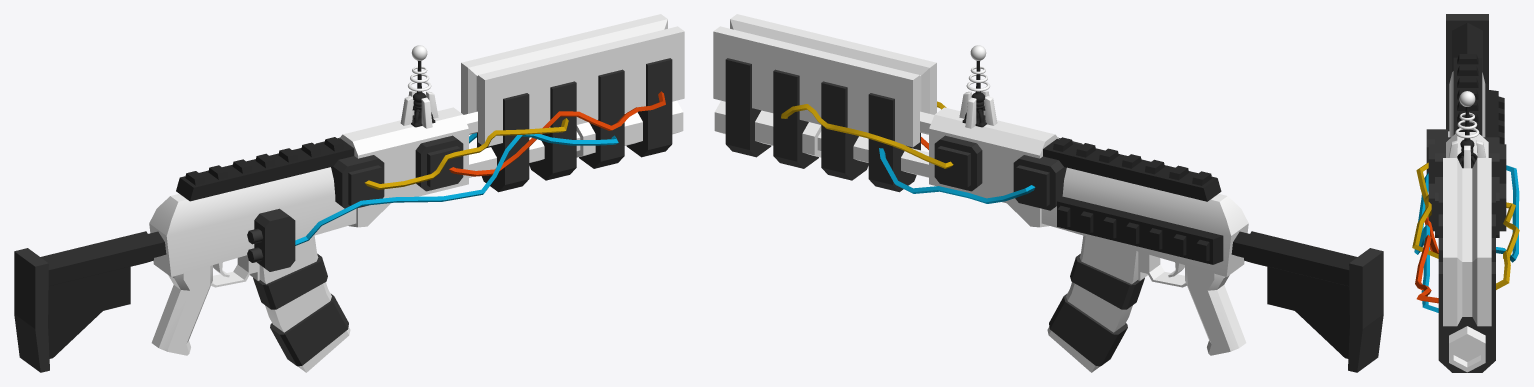
Rendered from assalto.fbx.
3 renders of one model, left to right at view 1: azimuth 30°, elevation 25°; view 2: azimuth 150°, elevation 25°; view 3: azimuth 270°, elevation 25°, orthographic. The views are drawn at different scales.
Visible parts, largest first — view 1: AssaltoChild; view 2: AssaltoChild; view 3: AssaltoChild.
Boxes of the visible parts, bbox=[...] form: AssaltoChild: bbox=[14, 14, 684, 372]; AssaltoChild: bbox=[713, 14, 1383, 372]; AssaltoChild: bbox=[1412, 14, 1519, 372].
Bounding box in the file's own units: 107 × 46.27 × 15.
